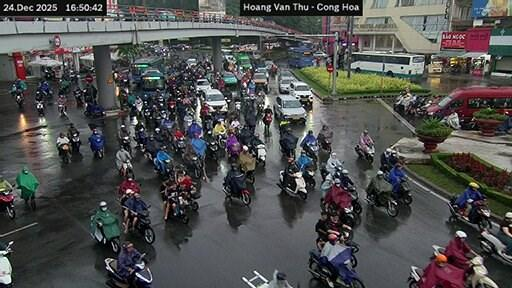motorbike: (307, 243, 364, 286), (447, 194, 490, 229), (464, 256, 498, 287), (89, 216, 118, 252), (480, 229, 511, 262), (320, 201, 355, 225), (364, 190, 396, 216), (277, 171, 306, 198), (104, 258, 130, 286), (131, 253, 152, 286), (134, 211, 153, 243), (221, 184, 249, 205), (391, 176, 412, 203), (0, 241, 12, 287), (167, 197, 188, 223), (179, 184, 199, 210), (346, 184, 361, 214), (0, 189, 15, 217), (157, 158, 175, 180), (249, 143, 265, 166), (205, 130, 216, 160), (134, 126, 147, 151), (355, 144, 373, 162), (186, 156, 201, 176), (83, 103, 105, 116), (89, 136, 102, 157), (118, 161, 133, 178), (304, 143, 317, 162), (304, 163, 313, 187), (70, 131, 80, 152), (409, 266, 421, 283), (173, 136, 185, 153), (73, 86, 83, 106), (58, 144, 69, 162), (262, 112, 272, 131), (281, 144, 294, 157), (332, 161, 344, 175), (121, 135, 130, 153), (320, 162, 329, 180), (320, 138, 330, 153), (432, 244, 444, 256), (35, 100, 44, 116), (144, 106, 152, 124), (167, 99, 175, 117), (217, 130, 226, 145), (67, 70, 76, 84), (44, 67, 54, 79), (203, 117, 211, 130), (234, 100, 240, 116), (16, 94, 22, 108), (57, 103, 64, 115)
